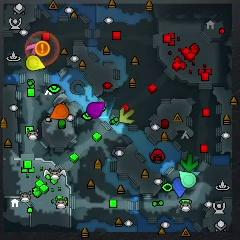Other: (35, 40, 51, 57)
p1: (172, 177, 187, 198)
p2: (178, 171, 196, 188)
p3: (87, 102, 106, 118)
p4: (26, 56, 45, 71)
p5: (49, 104, 70, 120)
x1: (26, 42, 40, 56)
x2: (119, 108, 134, 124)
x3: (192, 171, 200, 176)
x4: (181, 154, 198, 171)
